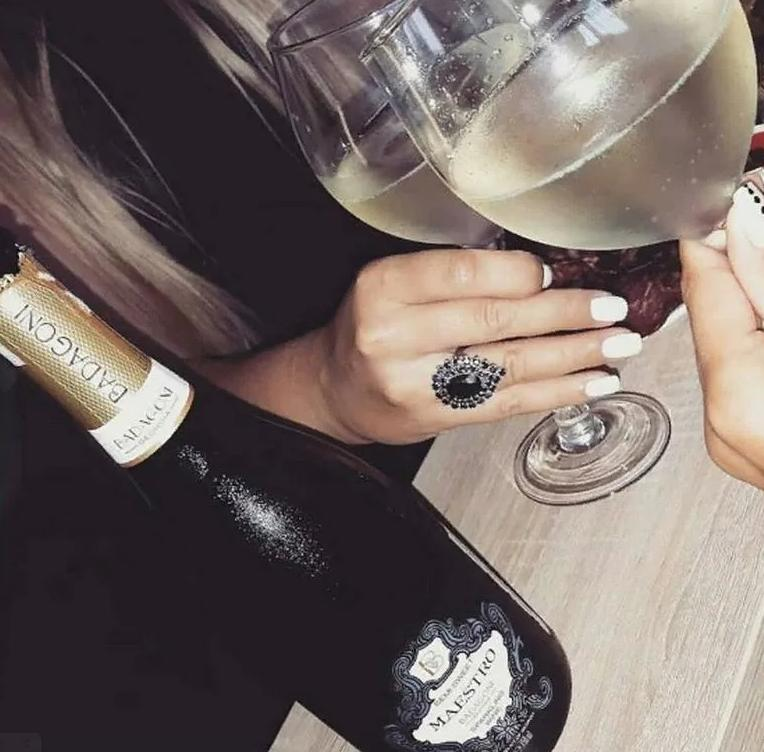wine bottle: (0, 223, 576, 752)
wine label: (381, 601, 553, 750)
